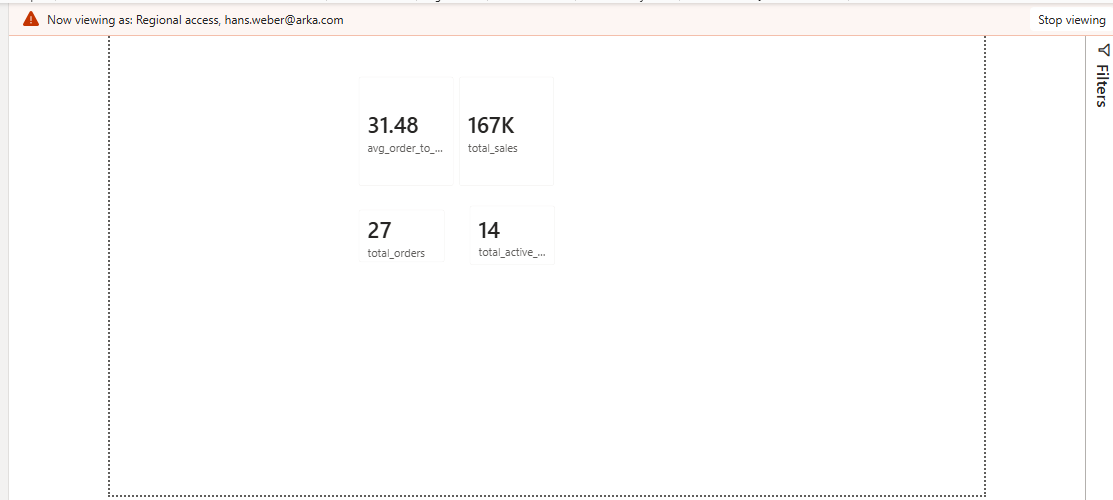

The dashboard page shown, as its layout file describes it:
{"tool":"powerbi","page":{"name":"Page 1","canvas":[1280,720],"ordinal":0},"visuals":[{"type":"cardVisual","fields":{"Data":["_measures.total_orders"]},"box":[346.8,285.4,161,111.2],"z":0},{"type":"cardVisual","fields":{"Data":["_measures.avg_order_to_pay","_measures.total_sales"]},"box":[346.8,90.7,322,194.6],"z":1000},{"type":"cardVisual","fields":{"Data":["_measures.total_active_customers"]},"box":[509.3,279.5,159.5,121.5],"z":2000}]}

Visuals, with their boxes on the page's 1280x720 design canvas (x1, y1, x2, y2). These are canvas units, not pixel positions in the 1113x500 screenshot, which may show the page scaled, cropped or inside an application window:
cardVisual - _measures.total_orders: BBox(347, 285, 508, 397)
cardVisual - _measures.avg_order_to_pay x _measures.total_sales: BBox(347, 91, 669, 285)
cardVisual - _measures.total_active_customers: BBox(509, 280, 669, 401)
